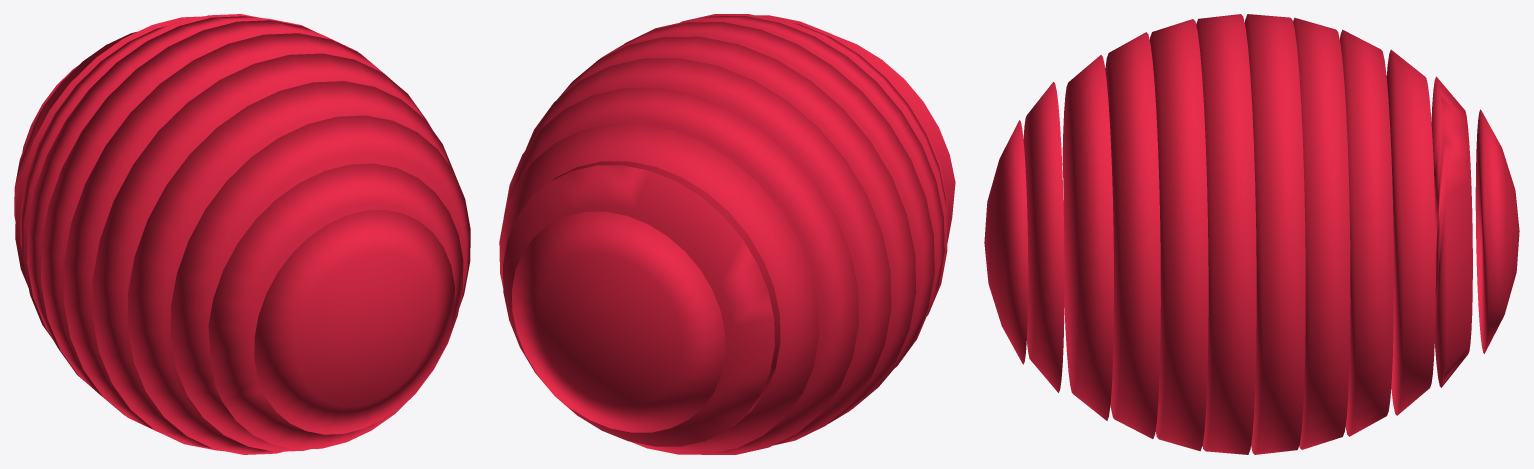
Rendered from tomate_picado.fbx.
3 renders of one model, left to right at view 1: azimuth 30°, elevation 25°; view 2: azimuth 150°, elevation 25°; view 3: azimuth 270°, elevation 25°, orthographic. The views are drawn at different scales.
Parts seen in each view (by area): view 1: Sphere.001, Sphere.003, Sphere.004, Sphere.002, Sphere.005, Sphere.006, Sphere.007, Sphere.008, Sphere.009, Sphere.010, Sphere.011; view 2: Sphere, Sphere.010, Sphere.011, Sphere.009, Sphere.008, Sphere.007, Sphere.006, Sphere.005, Sphere.004, Sphere.002, Sphere.003; view 3: Sphere.007, Sphere.006, Sphere.005, Sphere.008, Sphere.004, Sphere.009, Sphere.003, Sphere.010, Sphere.011, Sphere.002, Sphere, Sphere.001.
Boxes of the visible parts, x1,y1,x2,y2 form: Sphere.001: (254, 210, 454, 434); Sphere.003: (170, 115, 470, 451); Sphere.004: (127, 81, 453, 454); Sphere.002: (208, 163, 463, 449); Sphere.005: (92, 53, 431, 451); Sphere.006: (63, 33, 392, 432); Sphere.007: (41, 20, 358, 415); Sphere.008: (27, 16, 314, 380); Sphere.009: (20, 14, 260, 337); Sphere.010: (15, 16, 203, 287); Sphere.011: (14, 31, 137, 221); Sphere: (512, 211, 725, 432); Sphere.010: (499, 124, 819, 454); Sphere.011: (503, 165, 774, 446); Sphere.009: (504, 87, 858, 454); Sphere.008: (525, 58, 891, 445); Sphere.007: (557, 36, 916, 423); Sphere.006: (600, 22, 934, 408); Sphere.005: (624, 16, 944, 367); Sphere.004: (680, 14, 947, 315); Sphere.002: (834, 35, 955, 243); Sphere.003: (756, 15, 947, 232); Sphere.007: (1244, 14, 1305, 454); Sphere.006: (1196, 14, 1256, 454); Sphere.005: (1149, 19, 1208, 451); Sphere.008: (1293, 17, 1350, 449); Sphere.004: (1105, 32, 1160, 438); Sphere.009: (1340, 29, 1393, 436); Sphere.003: (1062, 55, 1113, 420); Sphere.010: (1386, 49, 1435, 415); Sphere.011: (1431, 76, 1472, 387); Sphere.002: (1023, 82, 1064, 392); Sphere: (1475, 109, 1519, 353); Sphere.001: (984, 120, 1028, 364).
Bounding box in the file's own units: 199 × 199 × 242.
